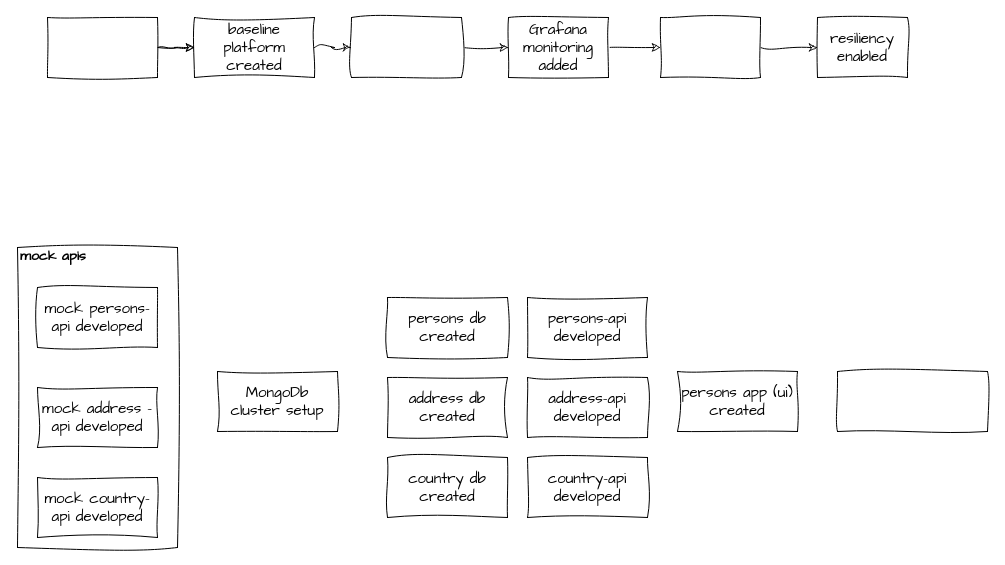
This 1005x565 diagram has some shape labels left out. The centre of each missing label's shape, as x and y in pixels:
(baseline) persons platform created: point 912,401
access secured with Keycloak: point 710,47
baseline mocked: point 102,47
secrets managed securely: point 406,47
